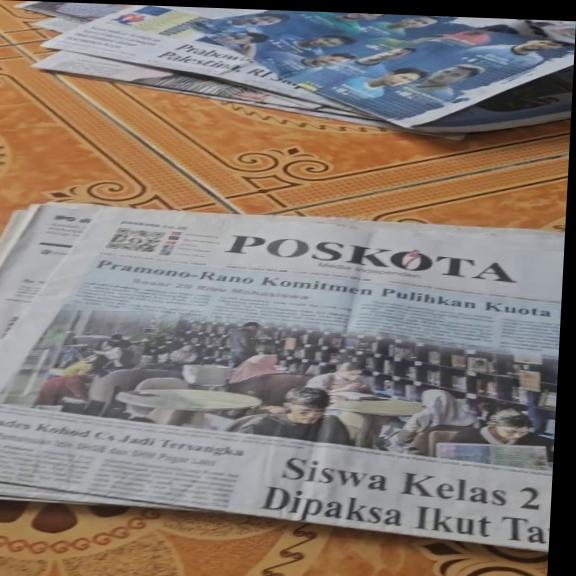Kertas: (10, 207, 565, 519)
